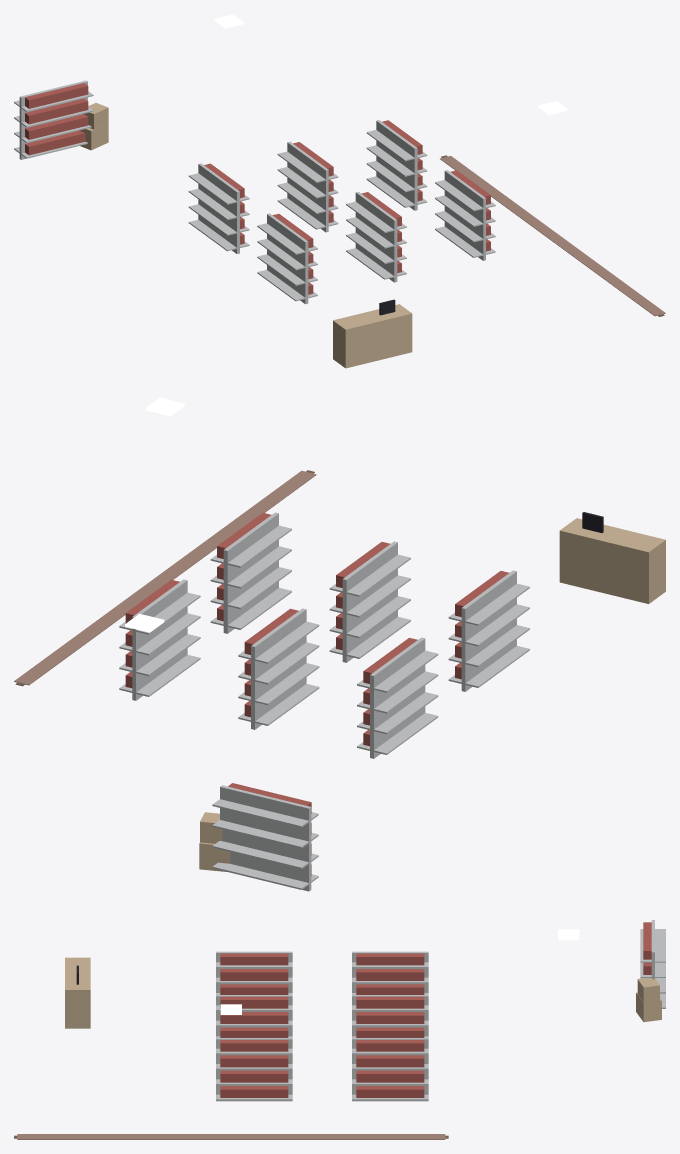
File: fine-s0.glb
The picture shows the model from 3 angles, top to bottom: view 1: azimuth 30°, elevation 25°; view 2: azimuth 150°, elevation 25°; view 3: azimuth 270°, elevation 25°; orthographic projection. The views are drawn at different scales.
Parts seen in each view (by area): view 1: shelving.000, shop-counter.000, shelf.002, shelf.004, shelf.001, shelf.005, shelf.003, shelf.000, soft-s0, cardboard-box.000; view 2: shelving.000, shop-counter.000, shelf.000, shelf.002, shelf.005, shelf.003, shelf.001, shelf.004, soft-s0, cardboard-box.000; view 3: shelf.004, shelf.005, shelf.000, shelf.001, shelf.002, shelf.003, soft-s0, shop-counter.000, shelving.000, cardboard-box.000.
Boxes of the visible parts, x1,y1,x2,y2 form: shelving.000: [14, 80, 93, 159]; shop-counter.000: [333, 299, 412, 368]; shelf.002: [277, 141, 338, 232]; shelf.004: [366, 120, 427, 210]; shelf.001: [257, 213, 317, 304]; shelf.005: [435, 170, 495, 260]; shelf.003: [346, 191, 406, 282]; shelf.000: [188, 163, 249, 253]; soft-s0: [440, 155, 665, 316]; cardboard-box.000: [79, 103, 108, 150]; shelving.000: [212, 783, 318, 891]; shop-counter.000: [559, 512, 665, 603]; shelf.000: [357, 637, 438, 758]; shelf.002: [238, 608, 319, 729]; shelf.005: [210, 512, 291, 633]; shelf.003: [329, 541, 410, 662]; shelf.001: [448, 570, 529, 691]; shelf.004: [119, 579, 200, 700]; soft-s0: [14, 470, 316, 686]; cardboard-box.000: [199, 812, 230, 871]; shelf.004: [352, 1038, 428, 1101]; shelf.005: [216, 1038, 292, 1101]; shelf.000: [352, 951, 428, 994]; shelf.001: [216, 951, 292, 994]; shelf.002: [352, 995, 428, 1037]; shelf.003: [216, 995, 292, 1037]; soft-s0: [14, 1134, 448, 1139]; shop-counter.000: [65, 957, 90, 1028]; shelving.000: [640, 920, 665, 1008]; cardboard-box.000: [636, 978, 661, 1022].
Size of the model in its own units: 8.9 by 3.33 by 15.32.
